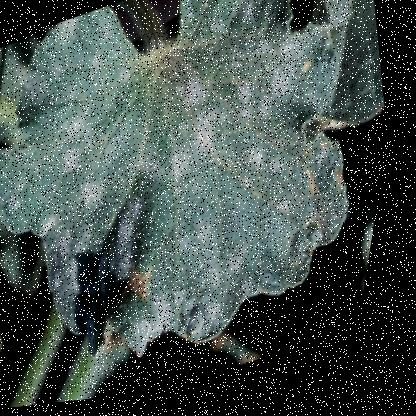PowderyMildew: (0, 0, 365, 353)
